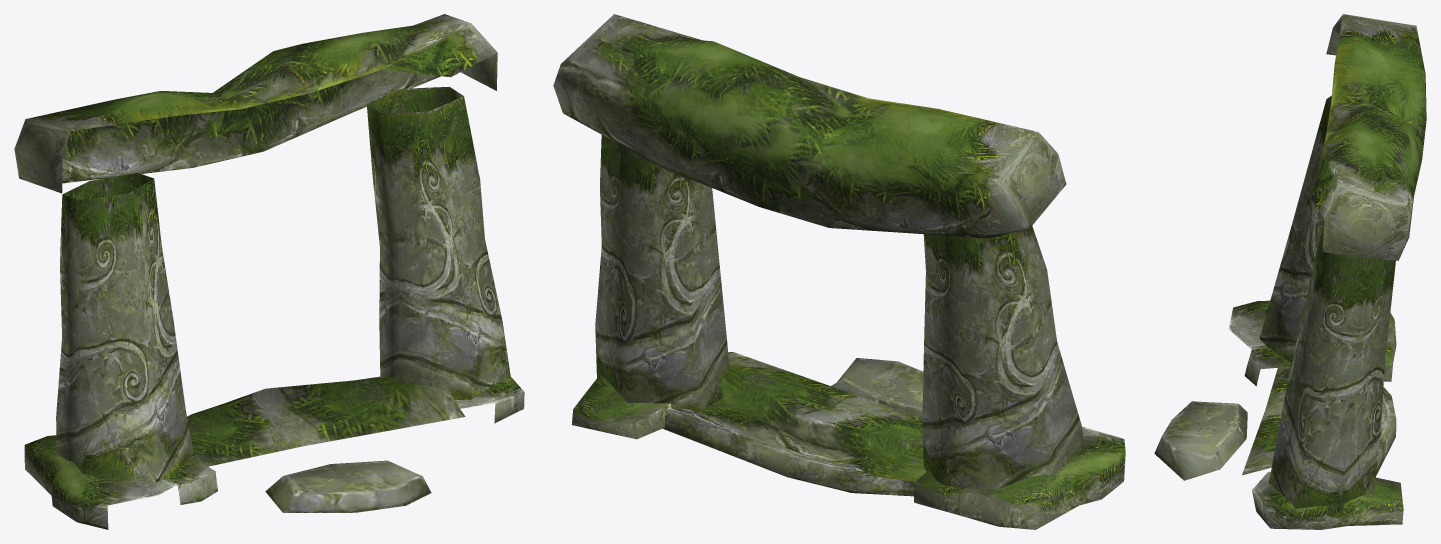
Rendered from 5012_Item_shitou_2.FBX.
The picture shows the model from 3 angles, left to right: view 1: azimuth 30°, elevation 25°; view 2: azimuth 150°, elevation 25°; view 3: azimuth 270°, elevation 25°; orthographic projection. The views are drawn at different scales.
Visible parts, largest first — view 1: 5012_Item_shitou_2; view 2: 5012_Item_shitou_2; view 3: 5012_Item_shitou_2.
Boxes of the visible parts, left/top/right/bottom form: 5012_Item_shitou_2: left=14, top=14, right=524, bottom=529; 5012_Item_shitou_2: left=553, top=14, right=1125, bottom=529; 5012_Item_shitou_2: left=1154, top=14, right=1426, bottom=529.
Size of the model in its own units: 530 by 420 by 293.
